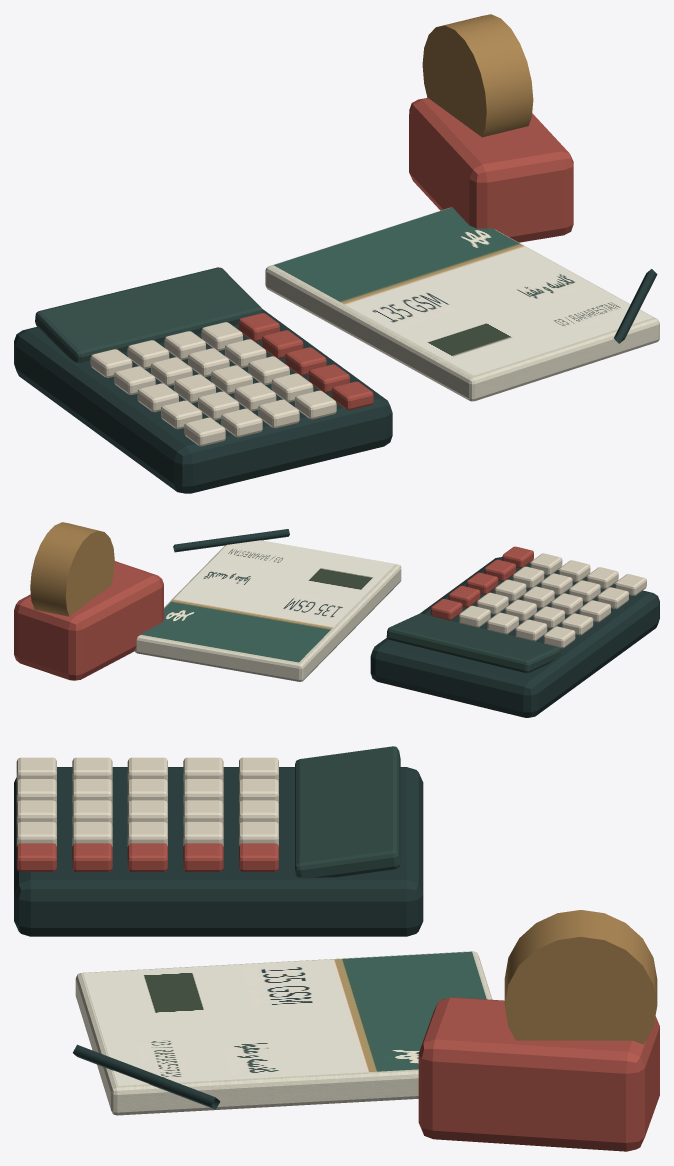
Rendered from counter-accessories.glb.
The picture shows the model from 3 angles, top to bottom: view 1: azimuth 30°, elevation 25°; view 2: azimuth 150°, elevation 25°; view 3: azimuth 270°, elevation 25°; orthographic projection. The views are drawn at different scales.
Parts seen in each view (by area): view 1: Printed stock check slip, Calculator polymer case, Hand tape dispenser, Angled calculator display, Receipt pad, Tape winding, Calculator key.020, Calculator key.023, Calculator key.024, Calculator key.021, Calculator key.022, Pen barrel (+20 smaller); view 2: Printed stock check slip, Calculator polymer case, Hand tape dispenser, Tape winding, Receipt pad, Angled calculator display, Pen barrel, Calculator key, Calculator key.001, Calculator key.003, Calculator key.002, Calculator key.004 (+20 smaller); view 3: Printed stock check slip, Calculator polymer case, Hand tape dispenser, Tape winding, Angled calculator display, Receipt pad, Pen barrel, Calculator key.009, Calculator key.019, Calculator key.024, Calculator key.014, Calculator key.004 (+20 smaller).
Part boxes in pixels (x1,y1,x2,y2): Printed stock check slip: (273, 207, 653, 375); Calculator polymer case: (14, 309, 392, 493); Hand tape dispenser: (409, 98, 573, 242); Angled calculator display: (35, 267, 262, 362); Receipt pad: (265, 207, 659, 401); Tape winding: (422, 14, 533, 137); Calculator key.020: (184, 417, 225, 446); Calculator key.023: (295, 390, 336, 419); Calculator key.024: (332, 381, 373, 410); Calculator key.021: (221, 408, 262, 437); Calculator key.022: (258, 399, 299, 428); Pen barrel: (614, 269, 657, 343); Printed stock check slip: (140, 540, 395, 662); Calculator polymer case: (370, 557, 659, 717); Hand tape dispenser: (14, 561, 163, 680); Tape winding: (30, 522, 114, 616); Receipt pad: (134, 545, 401, 681); Angled calculator display: (386, 613, 560, 673); Pen barrel: (173, 529, 289, 552); Calculator key: (543, 626, 575, 648); Calculator key.001: (515, 619, 547, 641); Calculator key.003: (459, 605, 490, 627); Calculator key.002: (487, 612, 518, 634); Calculator key.004: (431, 599, 462, 620); Printed stock check slip: (83, 951, 486, 1085); Calculator polymer case: (14, 767, 423, 936); Hand tape dispenser: (418, 997, 659, 1151); Tape winding: (504, 910, 657, 1044); Angled calculator display: (295, 746, 400, 877); Receipt pad: (75, 951, 492, 1115); Pen barrel: (73, 1044, 220, 1109); Calculator key.009: (183, 843, 223, 871); Calculator key.019: (72, 843, 112, 871); Calculator key.024: (16, 843, 56, 871); Calculator key.014: (127, 843, 167, 871); Calculator key.004: (239, 843, 278, 871).
Bounding box in the file's own units: 0.5835 × 0.1625 × 0.4655.
7 materials, 2 textured.
